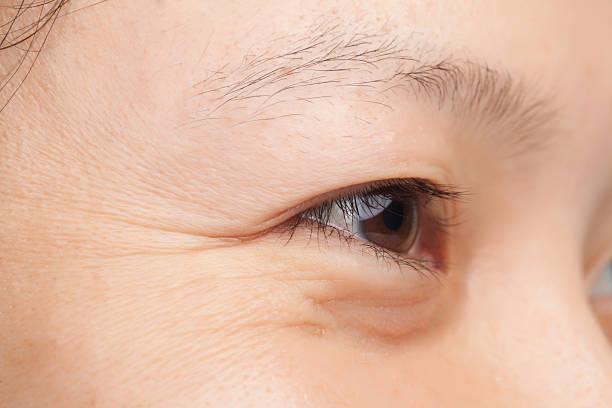Dry-Skin: (24, 92, 275, 406)
